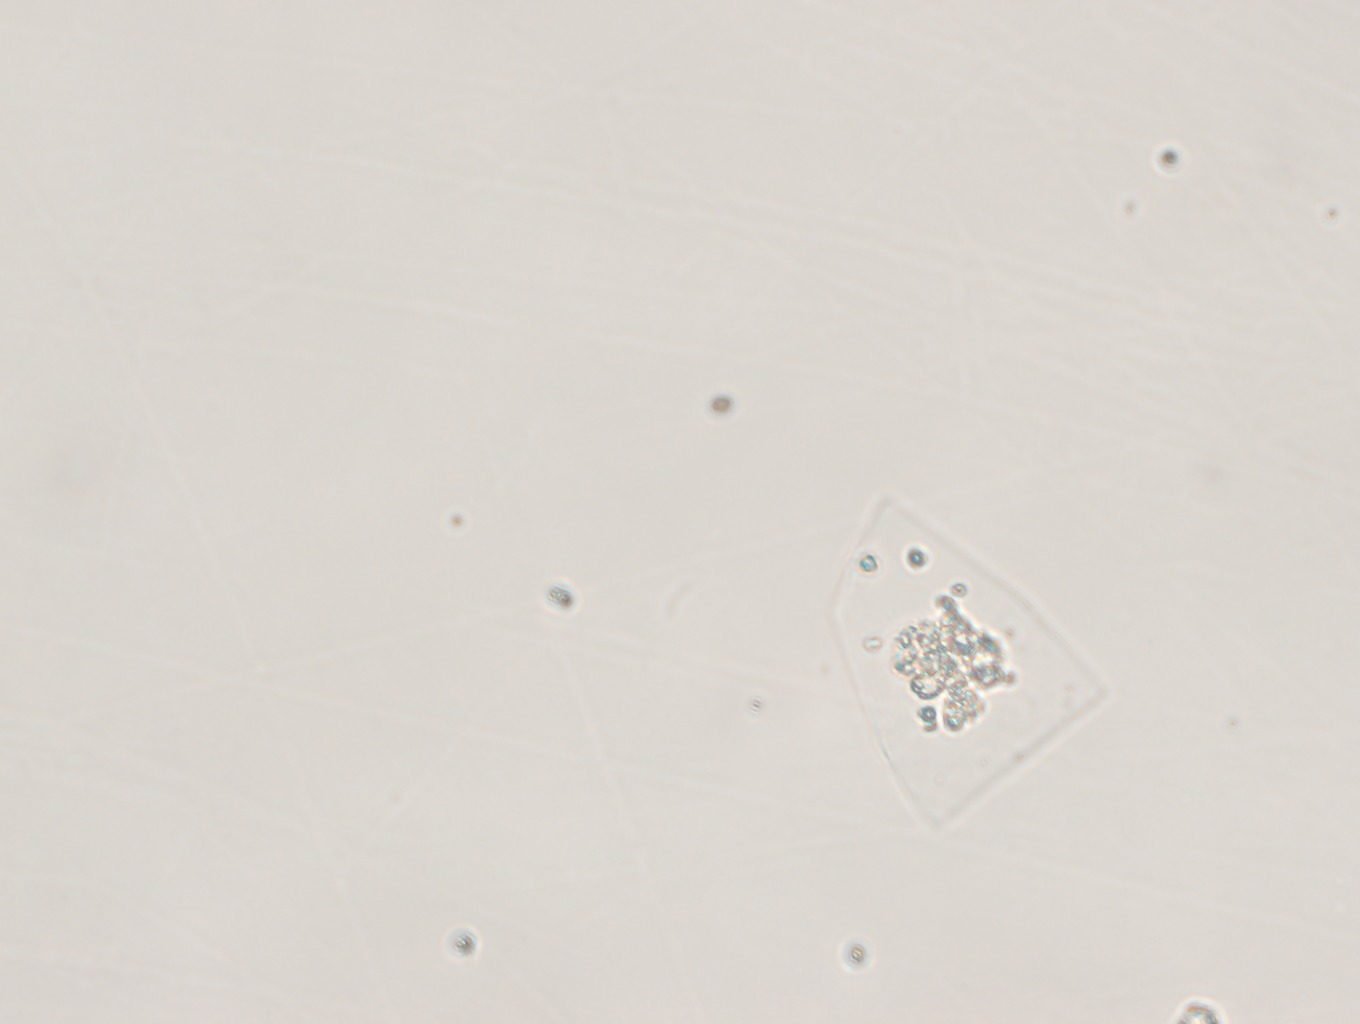helicotheca: (828, 487, 1110, 831)
